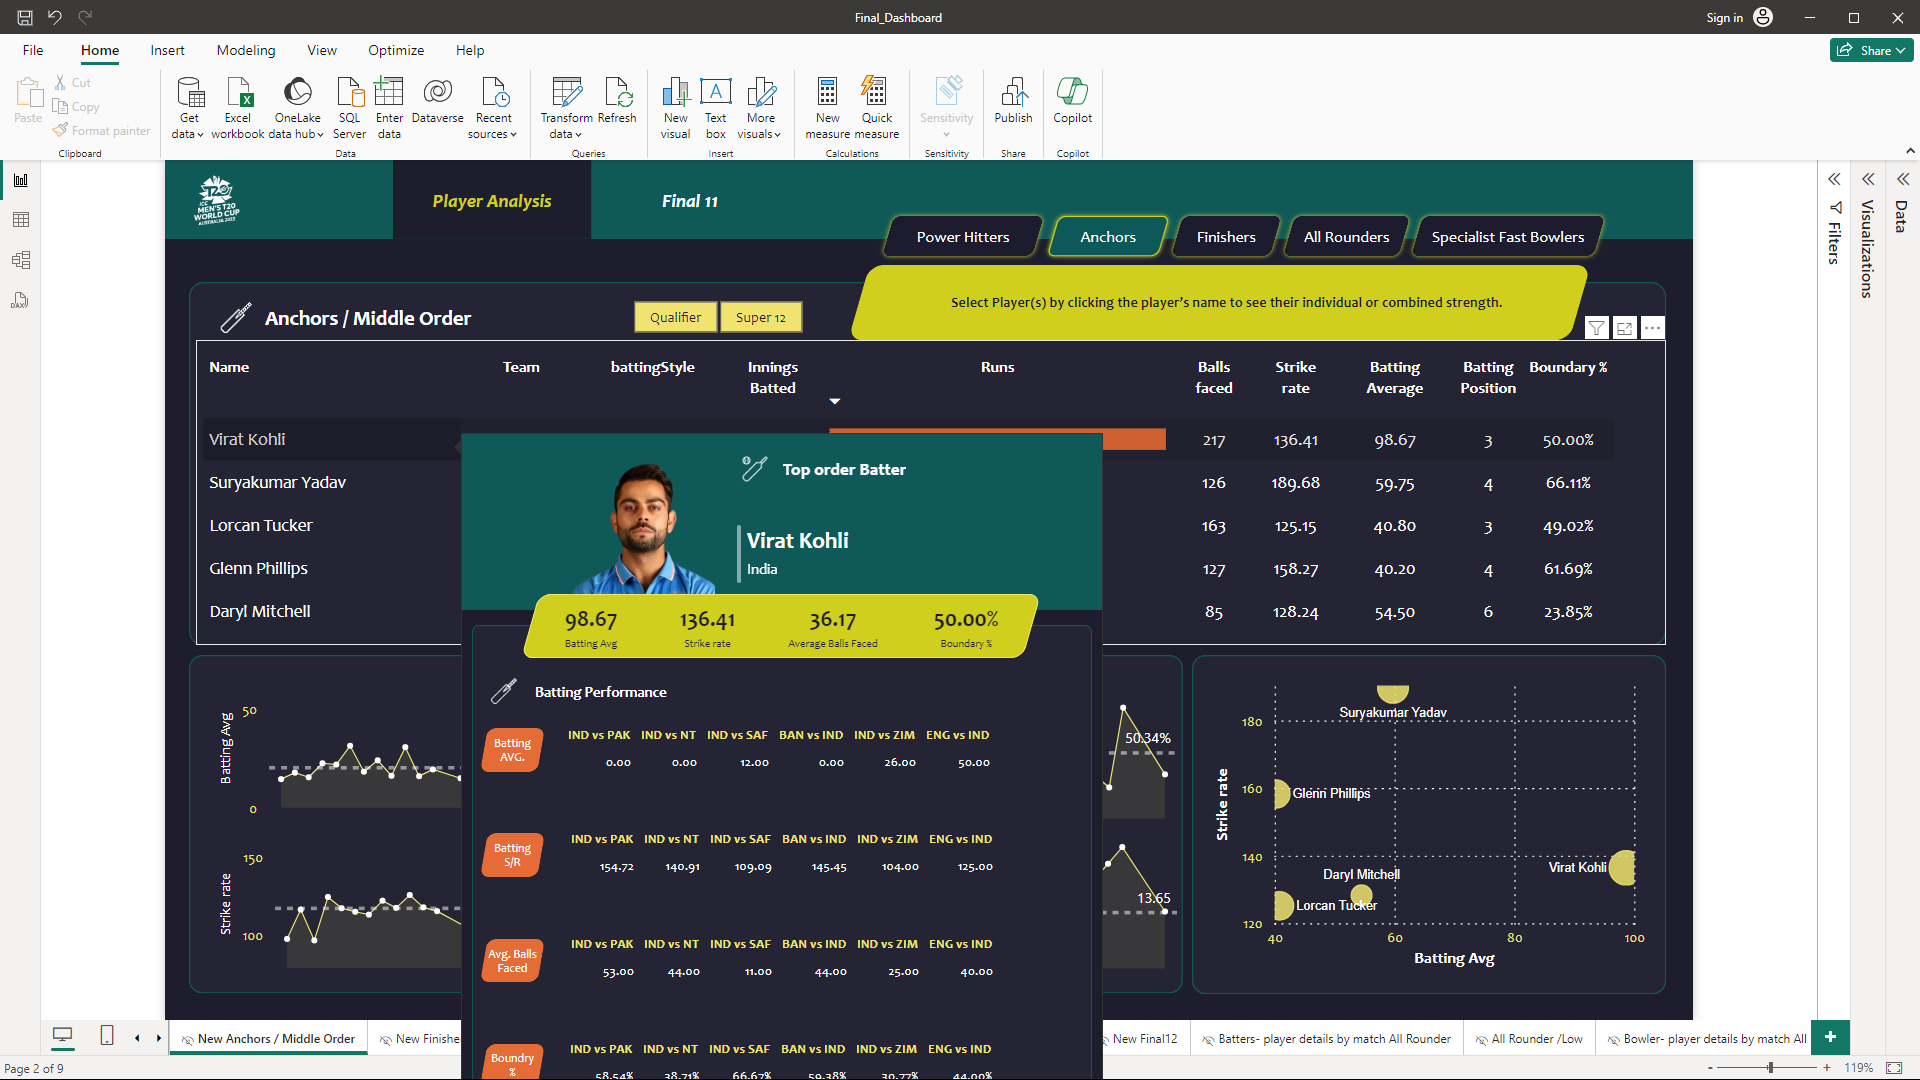

This screenshot's page, from the dashboard's own definition file:
{"tool":"powerbi","page":{"name":"New Anchors / Middle Order","canvas":[1280,720],"ordinal":1},"visuals":[{"type":"shape","box":[0,66,1280,654],"z":0},{"type":"card","fields":{"Values":["Key_Measures.Strike rate"]},"box":[866.4,88.6,93,60],"z":0,"group":"g2"},{"type":"group","id":"g1","title":"Group 2","box":[83.8,116.2,260,31.2],"z":0,"group":"g3"},{"type":"shape","box":[83.8,116.2,260,31.2],"z":0,"group":"g1"},{"type":"card","fields":{"Values":["Key_Measures.Bat Avg"]},"box":[767.4,88.6,92,60],"z":1000,"group":"g2"},{"type":"image","box":[38,114,44,36],"z":1000,"group":"g3"},{"type":"shape","box":[20,414.4,832.2,283.3],"z":1000},{"type":"actionButton","box":[734,42.6,111,42],"z":2000},{"type":"card","fields":{"Values":["Key_Measures.Avergate Balls Faced"]},"box":[1063,90.3,110,56.7],"z":2000,"group":"g2"},{"type":"actionButton","box":[596,42.6,144,42],"z":3000},{"type":"card","fields":{"Values":["Key_Measures.Boundary %"]},"box":[965.4,88.6,101,60],"z":3000,"group":"g2"},{"type":"actionButton","box":[838,42.6,101,42],"z":4000},{"type":"actionButton","box":[932,42.6,115,42],"z":5000},{"type":"actionButton","box":[1039,42.6,171,42],"z":6000},{"type":"image","box":[19.6,4.9,48,58.8],"z":7000},{"type":"areaChart","fields":{"Category":["dim_match_summary.Match_Date.Variation.Date Hierarchy.Day"],"Y":["Key_Measures.Boundary %"]},"box":[446,430,406,126],"z":9000},{"type":"shape","box":[860,414,397,284],"z":10000},{"type":"areaChart","fields":{"Category":["dim_match_summary.Match_Date.Variation.Date Hierarchy.Day"],"Y":["Key_Measures.Avergate Balls Faced"]},"box":[446,556,406,126],"z":11000},{"type":"areaChart","fields":{"Category":["dim_match_summary.Match_Date.Variation.Date Hierarchy.Day"],"Y":["Key_Measures.Bat Avg"]},"box":[40,428.9,395.6,126.7],"z":12000},{"type":"areaChart","fields":{"Category":["dim_match_summary.Match_Date.Variation.Date Hierarchy.Day"],"Y":["Key_Measures.Strike rate"]},"box":[40,555.6,396.7,125.6],"z":13000},{"type":"shape","box":[20,102.2,1236.7,304.4],"z":14000},{"type":"slicer","fields":{"Values":["dim_match_summary.stage"]},"box":[366.7,111.1,191.1,38.9],"z":15000},{"type":"shape","box":[572,88,622,63],"z":16000},{"type":"shape","box":[590.4,101.6,173,34],"z":17000},{"type":"group","id":"g2","title":"Combined Perfoamce Metrices","box":[767.4,88.6,405.6,60],"z":18000},{"type":"group","id":"g3","title":"Group 1","box":[38,114,305.8,36],"z":19000},{"type":"tableEx","fields":{"Values":["dim_player.name","dim_player.team","dim_player.Batting Style","Key_Measures.Total Matches","Key_Measures.Total Runs","Key_Measures.total balls faced","Key_Measures.Strike rate","Key_Measures.Bat Avg","Key_Measures.Batting Position","Key_Measures.Boundary %"]},"box":[26,151,1231,255],"z":20000},{"type":"scatterChart","fields":{"Y":["Key_Measures.Strike rate"],"Category":["dim_player.name"],"X":["Key_Measures.Bat Avg"],"Size":["Key_Measures.Total Runs"]},"box":[874,427,370,254],"z":21000},{"type":"actionButton","title":"Button Player Ana selected","box":[357,0,166,66],"z":22000},{"type":"actionButton","title":"Button Player Ana selected","box":[191,0,166,66],"z":23000},{"type":"shape","box":[608.6,100.9,560.6,36.3],"z":23501}]}

Visuals, with their boxes on the page's 1280x720 design canvas (x1, y1, x2, y2). These are canvas units, not pixel positions in the 1920x1080 screenshot, which may show the page scaled, cropped or inside an application window:
shape: x1=0 y1=66 x2=1280 y2=720
card - Key_Measures.Strike rate: x1=866 y1=89 x2=959 y2=149
"Group 2" group: x1=84 y1=116 x2=344 y2=147
shape: x1=84 y1=116 x2=344 y2=147
card - Key_Measures.Bat Avg: x1=767 y1=89 x2=859 y2=149
image: x1=38 y1=114 x2=82 y2=150
shape: x1=20 y1=414 x2=852 y2=698
actionButton: x1=734 y1=43 x2=845 y2=85
card - Key_Measures.Avergate Balls Faced: x1=1063 y1=90 x2=1173 y2=147
actionButton: x1=596 y1=43 x2=740 y2=85
card - Key_Measures.Boundary %: x1=965 y1=89 x2=1066 y2=149
actionButton: x1=838 y1=43 x2=939 y2=85
actionButton: x1=932 y1=43 x2=1047 y2=85
actionButton: x1=1039 y1=43 x2=1210 y2=85
image: x1=20 y1=5 x2=68 y2=64
areaChart - dim_match_summary.Match_Date.Variation.Date Hierarchy.Day x Key_Measures.Boundary %: x1=446 y1=430 x2=852 y2=556
shape: x1=860 y1=414 x2=1257 y2=698
areaChart - dim_match_summary.Match_Date.Variation.Date Hierarchy.Day x Key_Measures.Avergate Balls Faced: x1=446 y1=556 x2=852 y2=682
areaChart - dim_match_summary.Match_Date.Variation.Date Hierarchy.Day x Key_Measures.Bat Avg: x1=40 y1=429 x2=436 y2=556
areaChart - dim_match_summary.Match_Date.Variation.Date Hierarchy.Day x Key_Measures.Strike rate: x1=40 y1=556 x2=437 y2=681
shape: x1=20 y1=102 x2=1257 y2=407
slicer - dim_match_summary.stage: x1=367 y1=111 x2=558 y2=150
shape: x1=572 y1=88 x2=1194 y2=151
shape: x1=590 y1=102 x2=763 y2=136
"Combined Perfoamce Metrices" group: x1=767 y1=89 x2=1173 y2=149
"Group 1" group: x1=38 y1=114 x2=344 y2=150
tableEx - dim_player.name x dim_player.team: x1=26 y1=151 x2=1257 y2=406
scatterChart - Key_Measures.Strike rate x dim_player.name: x1=874 y1=427 x2=1244 y2=681
"Button Player Ana selected" actionButton: x1=357 y1=0 x2=523 y2=66
"Button Player Ana selected" actionButton: x1=191 y1=0 x2=357 y2=66
shape: x1=609 y1=101 x2=1169 y2=137
